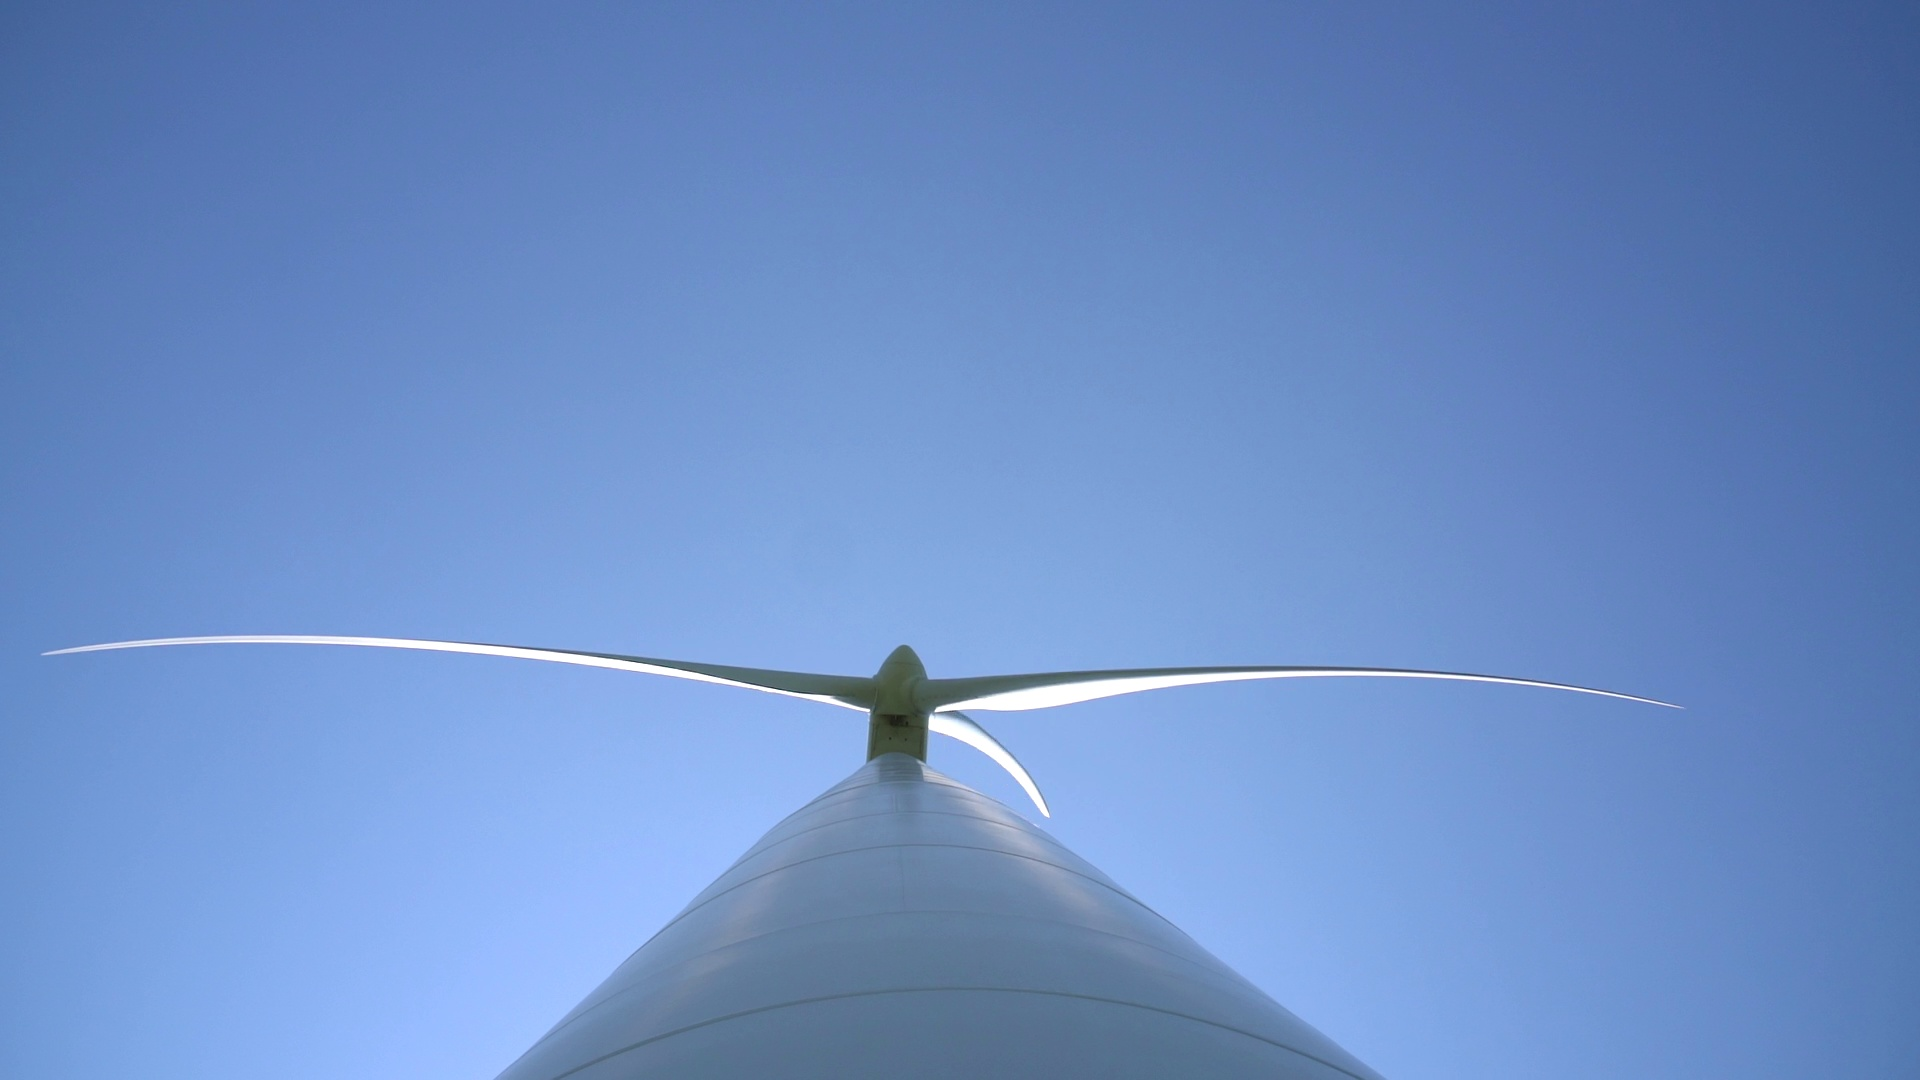turbine: (40, 621, 881, 746), (926, 638, 1702, 727), (936, 700, 1065, 816)
